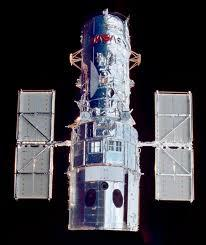antenna: (89, 59, 99, 100), (69, 51, 75, 68), (107, 87, 115, 99), (136, 53, 142, 68)
body: (66, 11, 141, 232)
solar: (155, 89, 196, 202), (15, 90, 55, 200)
